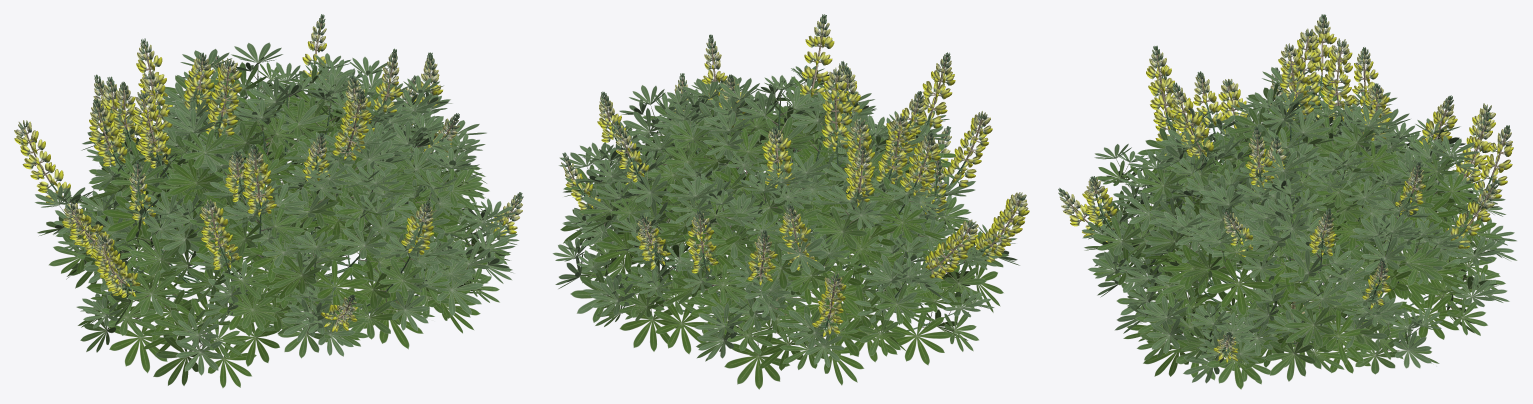
The model's file is buisson-4.glb.
3 views of the same model, side by side, from view 1: azimuth 30°, elevation 25°; view 2: azimuth 150°, elevation 25°; view 3: azimuth 270°, elevation 25° (orthographic). The views are drawn at different scales.
Visible parts, largest first — view 1: Lupinus_arboreus_HD; view 2: Lupinus_arboreus_HD; view 3: Lupinus_arboreus_HD.
Part boxes in pixels (left/top/right/bottom): Lupinus_arboreus_HD: left=14, top=14, right=523, bottom=388; Lupinus_arboreus_HD: left=552, top=14, right=1029, bottom=389; Lupinus_arboreus_HD: left=1058, top=14, right=1517, bottom=389.
Size of the model in its own units: 1.24 by 0.7391 by 1.18.
17 materials, 17 textured.
